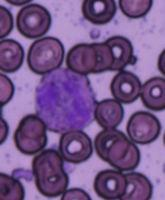E: (34, 67, 96, 134)
